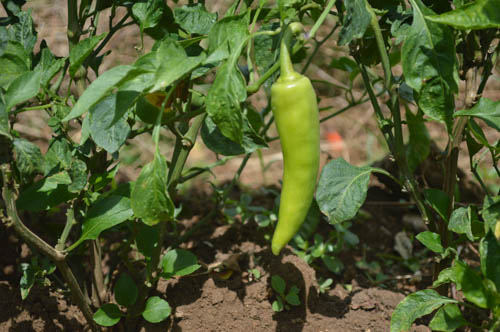ChiliPepper: (267, 81, 323, 259)
